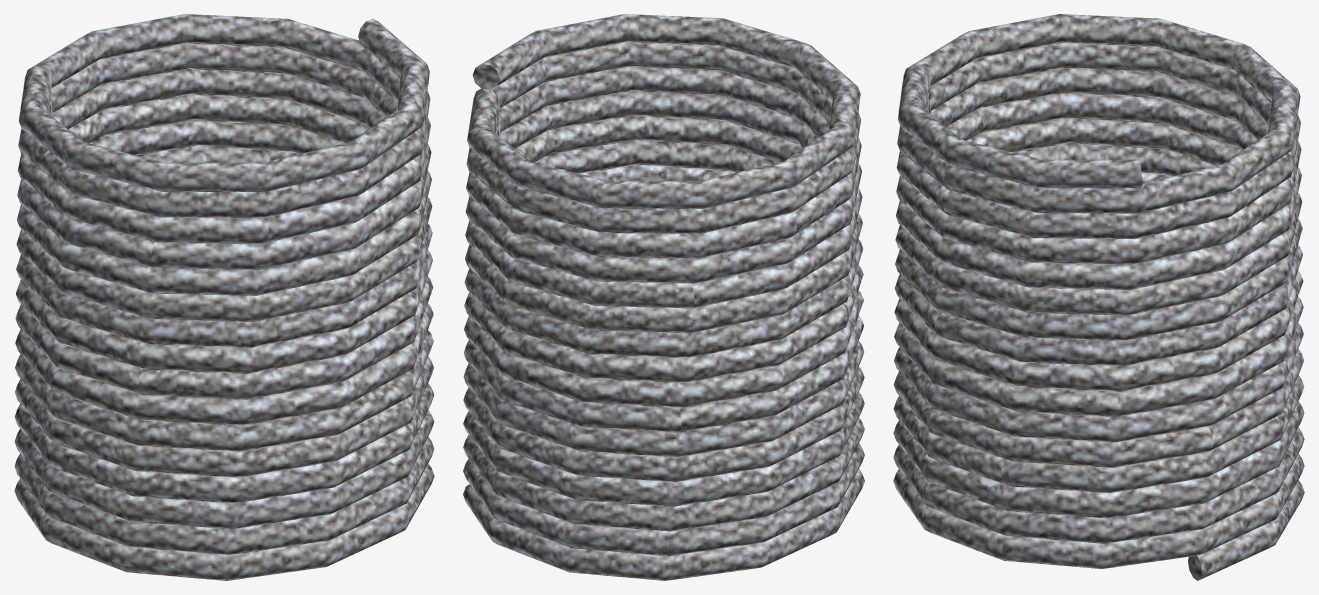
3 views of the same model, side by side, from view 1: azimuth 30°, elevation 25°; view 2: azimuth 150°, elevation 25°; view 3: azimuth 270°, elevation 25° (orthographic). The views are drawn at different scales.
Parts seen in each view (by area): view 1: Detail1; view 2: Detail1; view 3: Detail1.
Boxes of the visible parts, bbox=[...] form: Detail1: bbox=[14, 14, 434, 580]; Detail1: bbox=[463, 14, 864, 580]; Detail1: bbox=[893, 14, 1304, 580].
Bounding box in the file's own units: 0.0992 × 0.1137 × 0.0992.
1 material, 1 textured.
